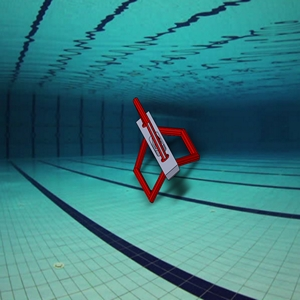submarine: (111, 93, 215, 206)
